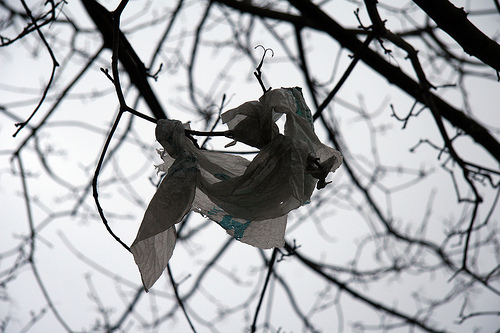litter: (129, 85, 344, 297)
